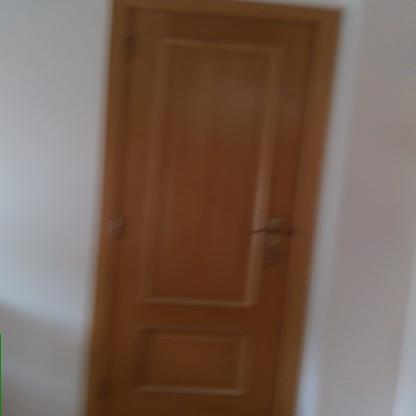closed: (81, 5, 361, 409)
